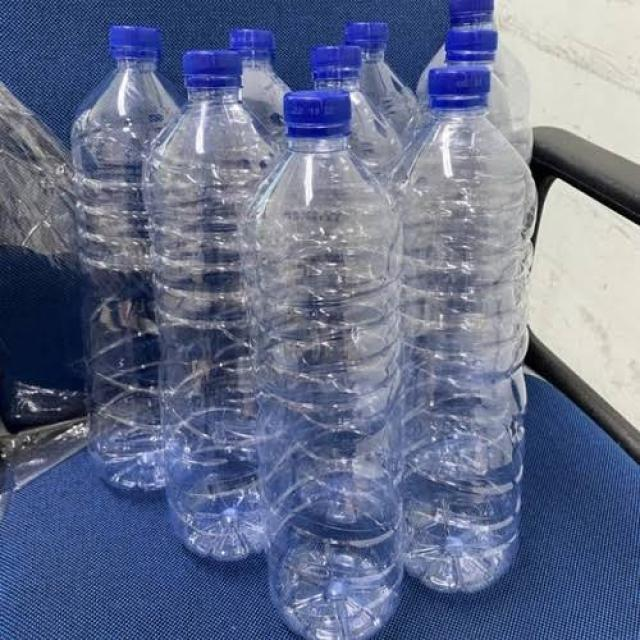bottle: (249, 88, 411, 640), (148, 47, 290, 564), (402, 67, 535, 599), (70, 22, 192, 493), (297, 40, 402, 466), (343, 20, 426, 354), (225, 29, 297, 386)
